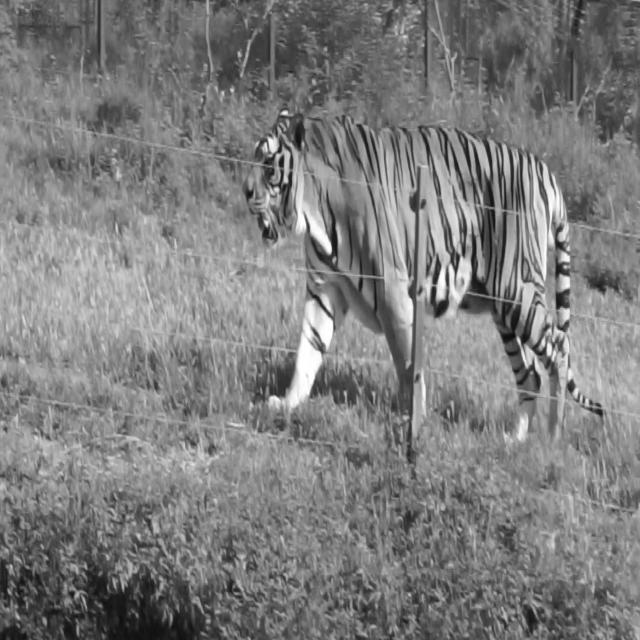Tiger: (242, 107, 603, 456)
